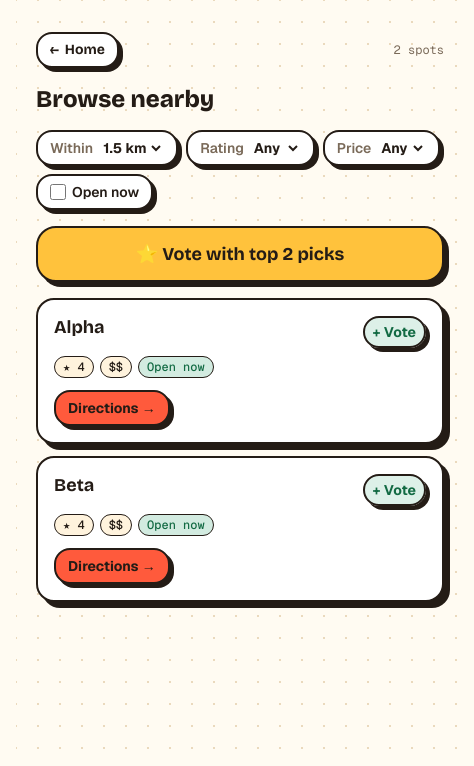
Test: BrowseView › disables the vote bar until two are selected
Check: the heading "Alpha" is shown, box x1=54 y1=316 x2=105 y2=338
What coordinates should you click on to do the following:
click the button with aria-label "add alpha to vote"
I would click on:
 (394, 332)
Its box is x1=362 y1=316 x2=426 y2=348.
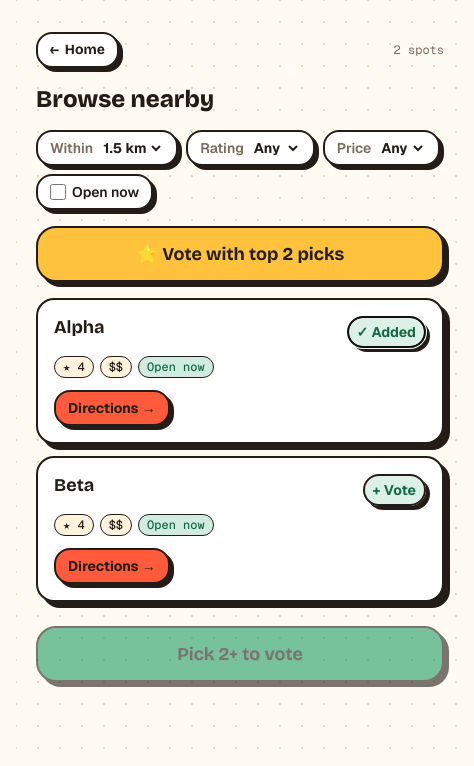
Check: the button "Pick 2+ to vote" is disabled, box x1=36 y1=626 x2=444 y2=682
